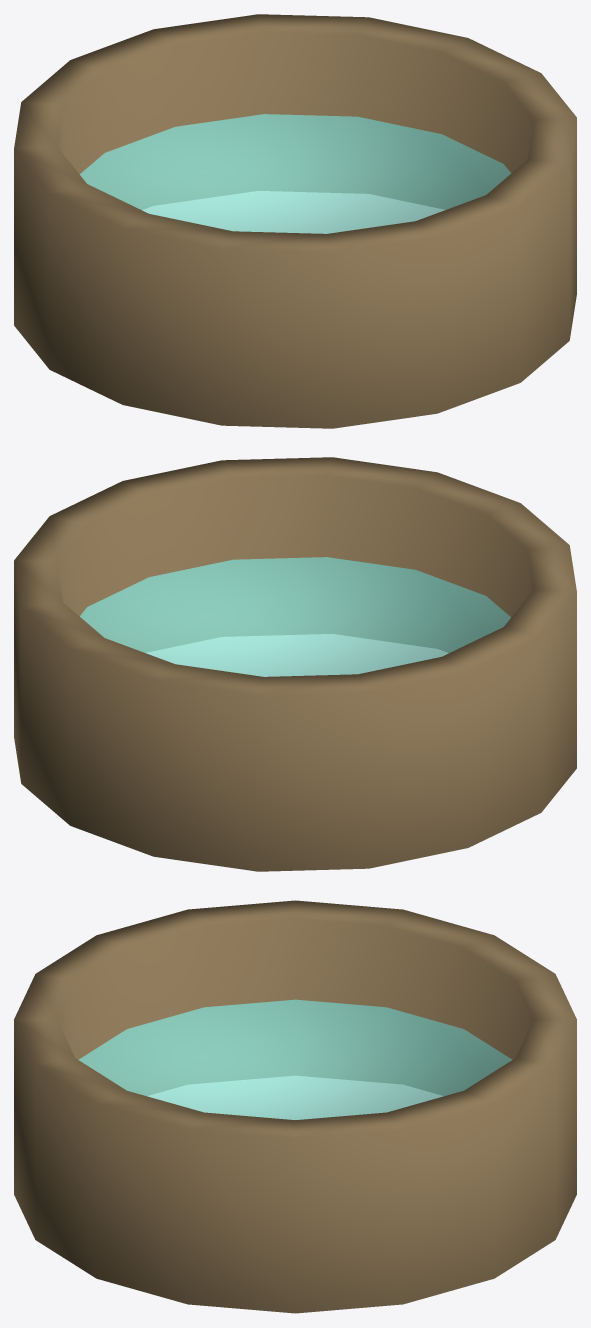
File: CatWater.fbx
The picture shows the model from 3 angles, top to bottom: view 1: azimuth 30°, elevation 25°; view 2: azimuth 150°, elevation 25°; view 3: azimuth 270°, elevation 25°; orthographic projection.
Visible parts, largest first — view 1: Water Cat.001; view 2: Water Cat.001; view 3: Water Cat.001.
Part boxes in pixels (x1=…): Water Cat.001: x1=14, y1=14, x2=576, y2=428; Water Cat.001: x1=14, y1=457, x2=576, y2=871; Water Cat.001: x1=14, y1=900, x2=576, y2=1313.
Size of the model in its own units: 50.45 by 17.32 by 50.45.
